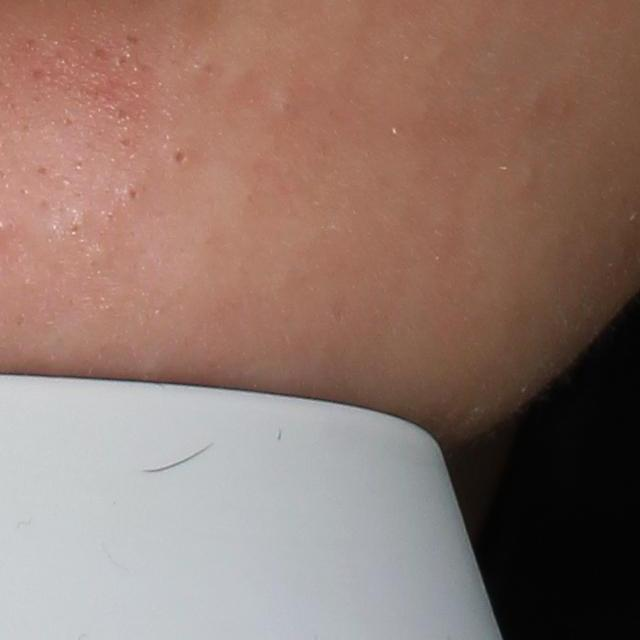comedo: (166, 143, 194, 176), (271, 90, 296, 123), (119, 178, 145, 209)
